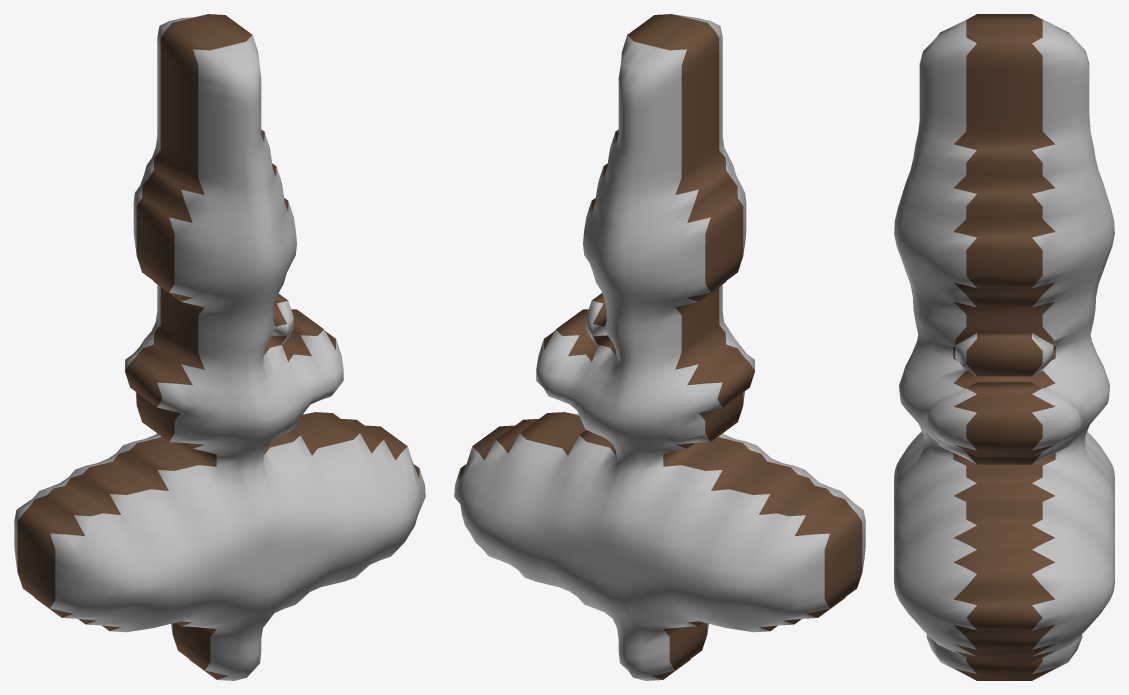
The model's file is oil_lamp.glb.
3 renders of one model, left to right at view 1: azimuth 30°, elevation 25°; view 2: azimuth 150°, elevation 25°; view 3: azimuth 270°, elevation 25°, orthographic.
Parts seen in each view (by area): view 1: oil_lamp; view 2: oil_lamp; view 3: oil_lamp.
Boxes of the visible parts, x1,y1,x2,y2 form: oil_lamp: [14, 14, 425, 680]; oil_lamp: [454, 14, 865, 680]; oil_lamp: [894, 14, 1114, 680].
Size of the model in its own units: 0.4769 by 0.7846 by 0.244.
